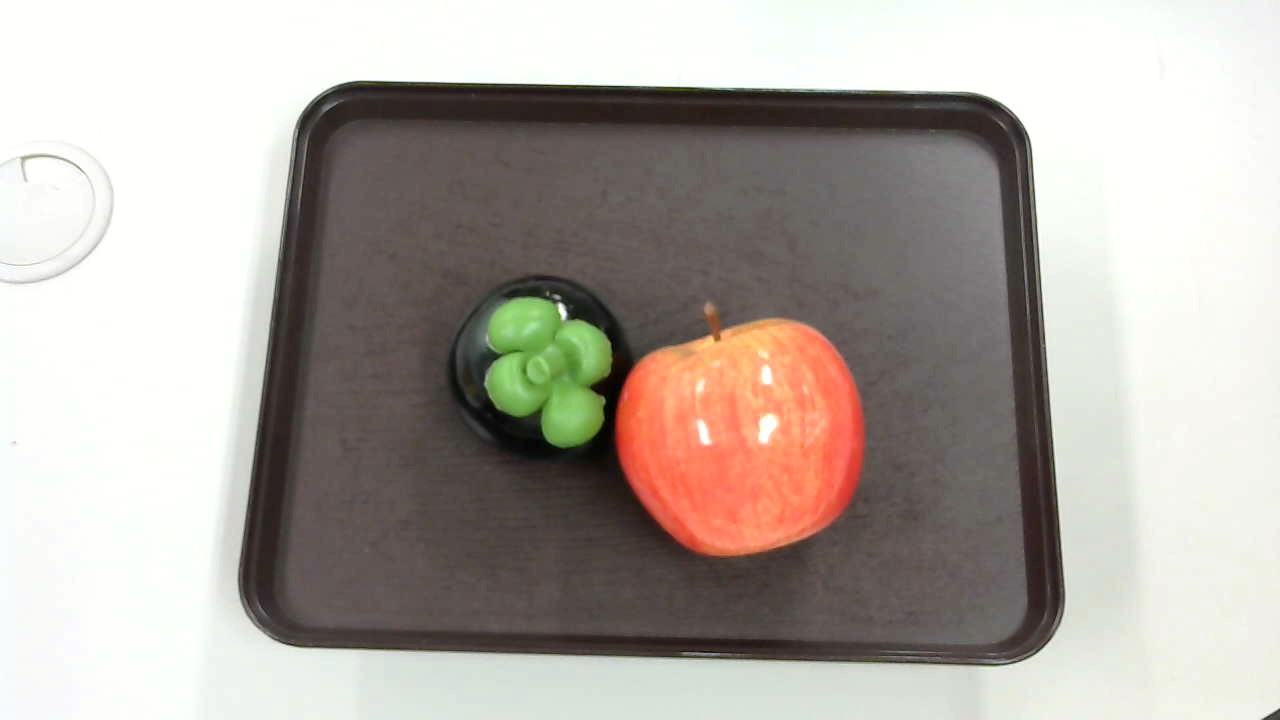mangosteen: (451, 276, 642, 459)
red apple: (610, 302, 864, 556)
